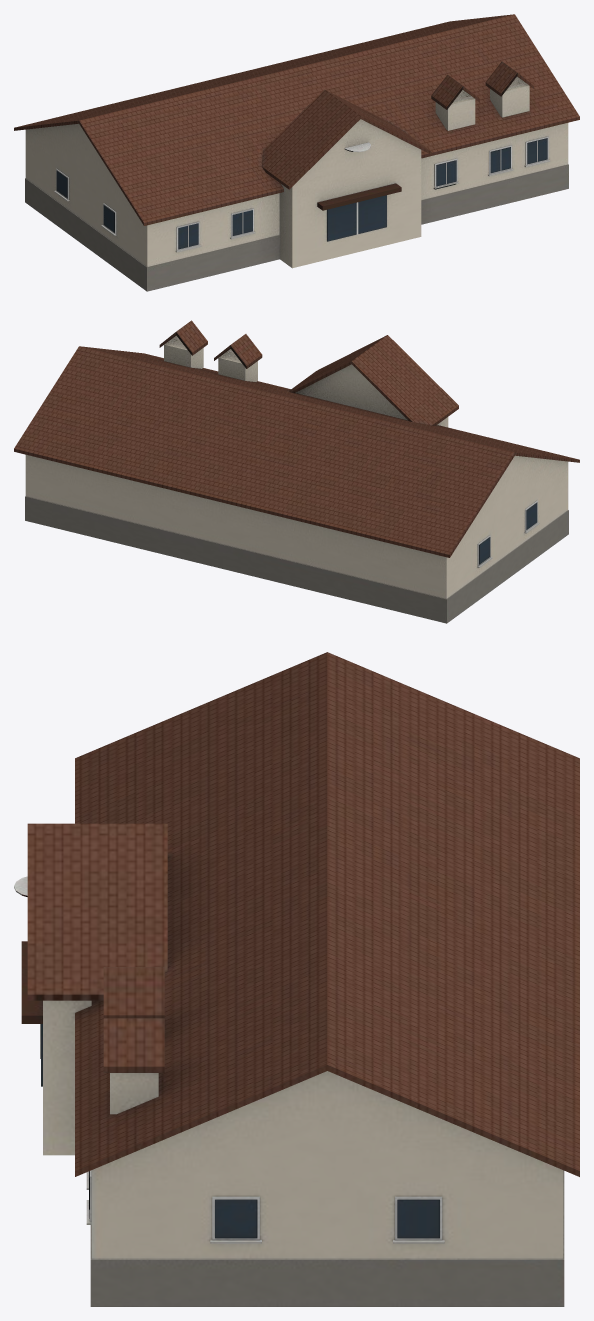
The model's file is tutti.glb.
The picture shows the model from 3 angles, top to bottom: view 1: azimuth 30°, elevation 25°; view 2: azimuth 150°, elevation 25°; view 3: azimuth 270°, elevation 25°; orthographic projection. The views are drawn at different scales.
Visible parts, largest first — view 1: tutti; view 2: tutti; view 3: tutti.
Part boxes in pixels (box(x1,y1,x2,y2)): tutti: box(14, 14, 579, 291); tutti: box(14, 320, 579, 623); tutti: box(14, 652, 579, 1306).
Size of the model in its own units: 32.1 by 9.82 by 18.6.
Materials: 1 (1 with a texture image).
